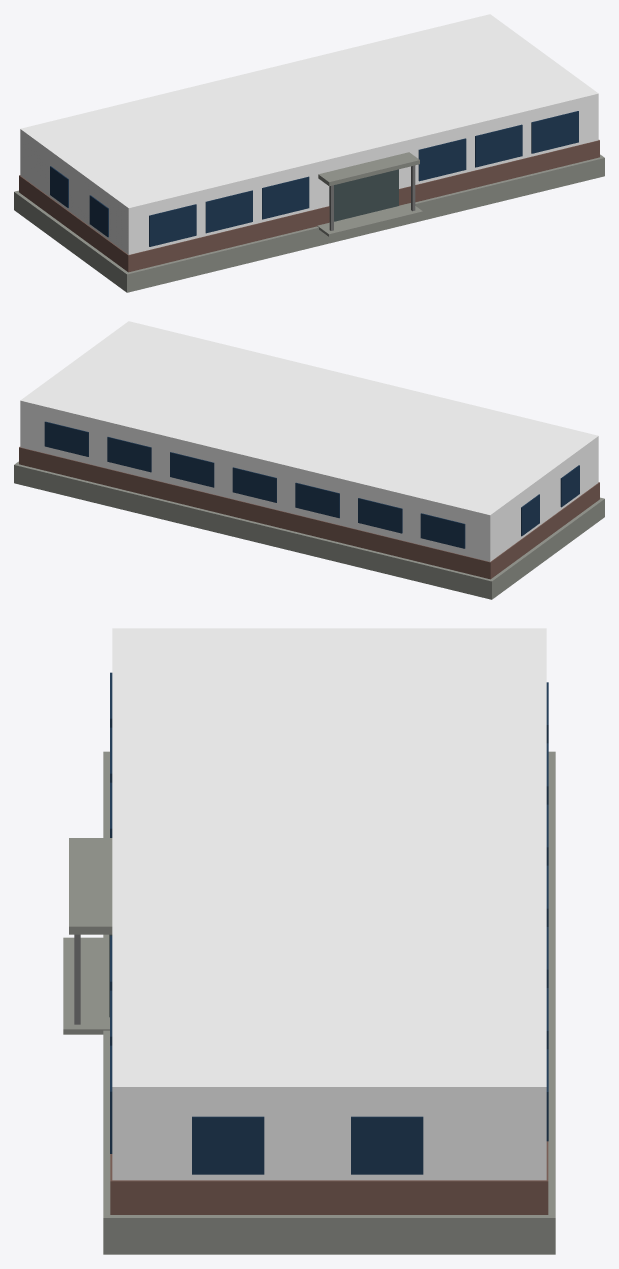
The model's file is mashup-main-base-prebuilt.fbx.
3 views of the same model, one above another, from view 1: azimuth 30°, elevation 25°; view 2: azimuth 150°, elevation 25°; view 3: azimuth 270°, elevation 25° (orthographic). The views are drawn at different scales.
Visible parts, largest first — view 1: a200.MainBase; view 2: a200.MainBase; view 3: a200.MainBase.
Boxes of the visible parts, x1=… form: a200.MainBase: x1=14, y1=14, x2=604, y2=292; a200.MainBase: x1=14, y1=321, x2=604, y2=599; a200.MainBase: x1=63, y1=628, x2=555, y2=1254.
Size of the model in its own units: 30.5 by 5 by 13.6.
